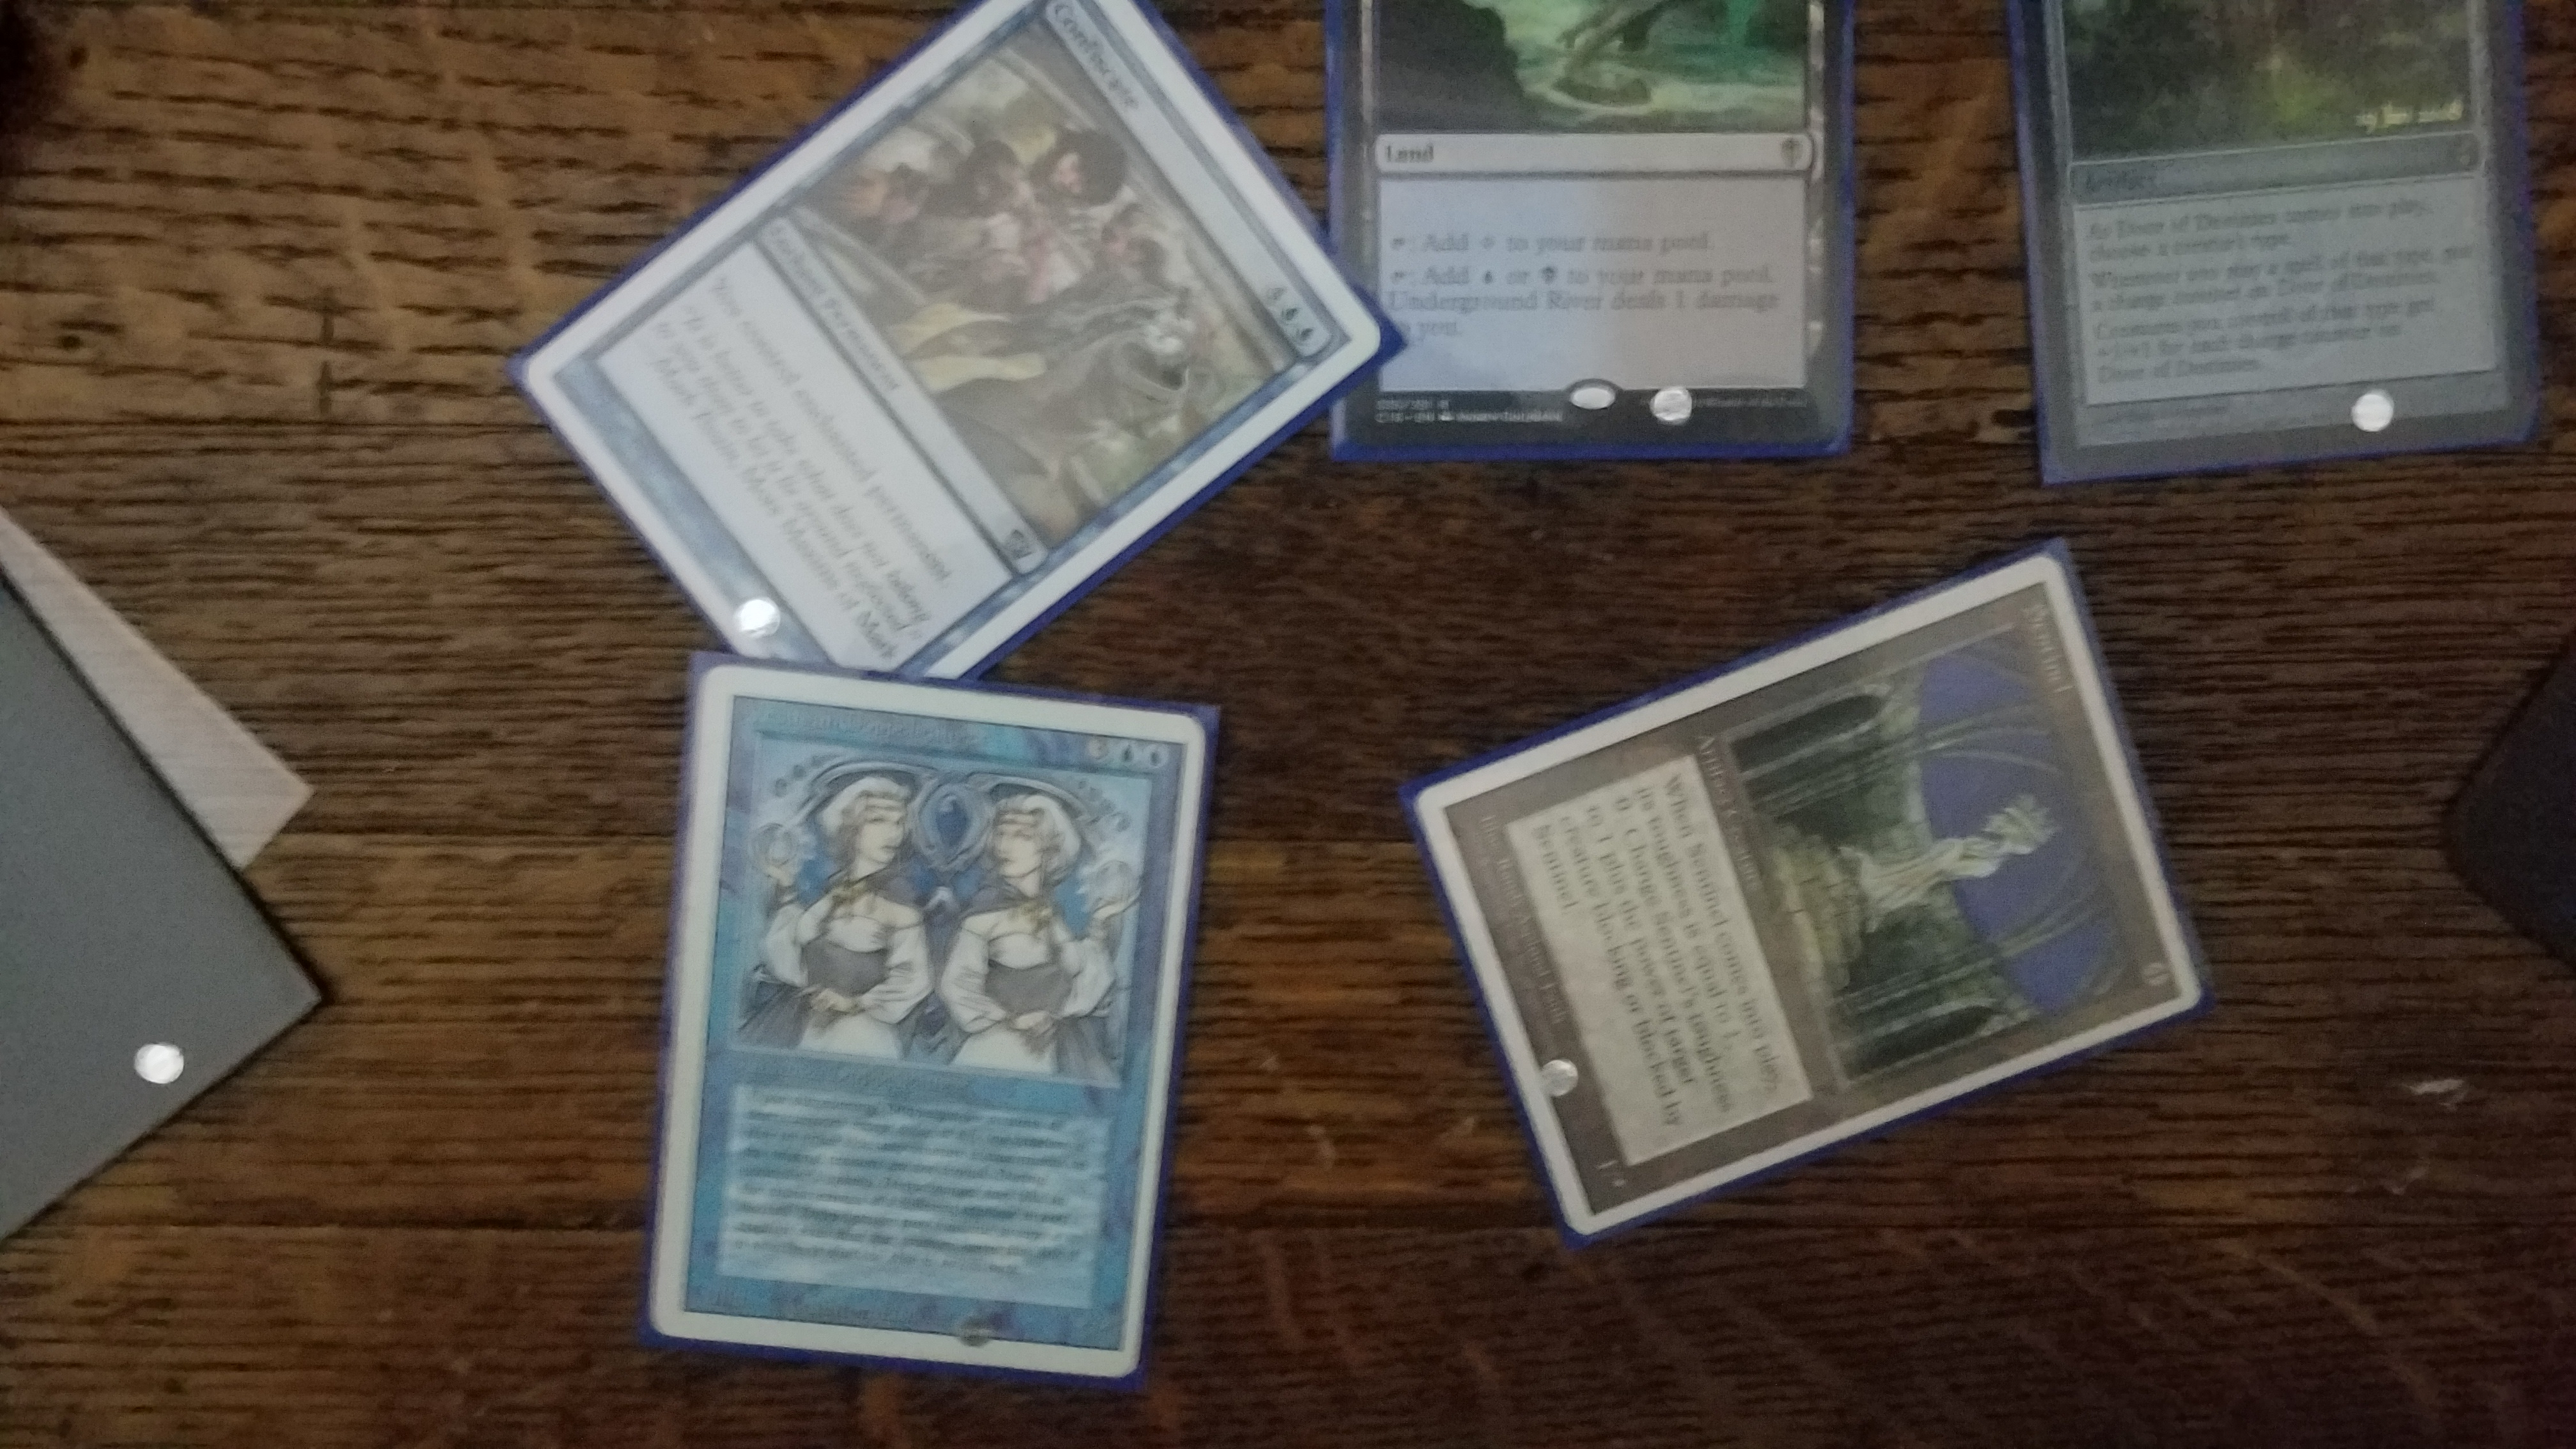Card: (490, 0, 1387, 692), (1415, 550, 2208, 1238), (637, 660, 1194, 1380)
